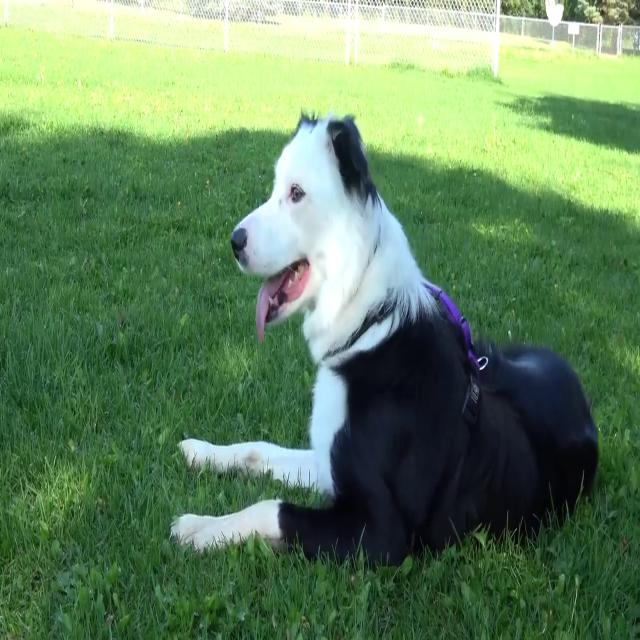Dog: (170, 107, 600, 576)
